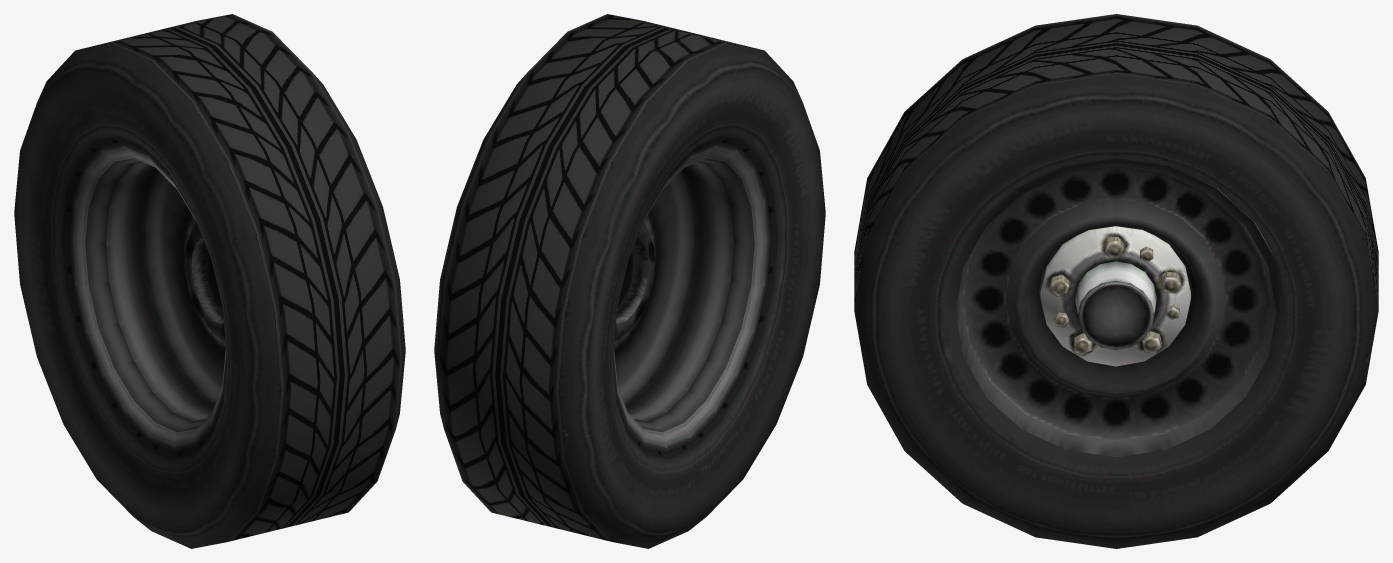
The model's file is Wheels_R15_3_R.fbx.
3 views of the same model, side by side, from view 1: azimuth 30°, elevation 25°; view 2: azimuth 150°, elevation 25°; view 3: azimuth 270°, elevation 25° (orthographic).
Visible parts, largest first — view 1: R15_3_RIGHT; view 2: R15_3_RIGHT; view 3: R15_3_RIGHT.
Boxes of the visible parts, x1,y1,x2,y2 form: R15_3_RIGHT: (14, 14, 405, 548); R15_3_RIGHT: (434, 14, 825, 548); R15_3_RIGHT: (854, 14, 1378, 548).
Bounding box in the file's own units: 11.26 × 33.07 × 33.07.
